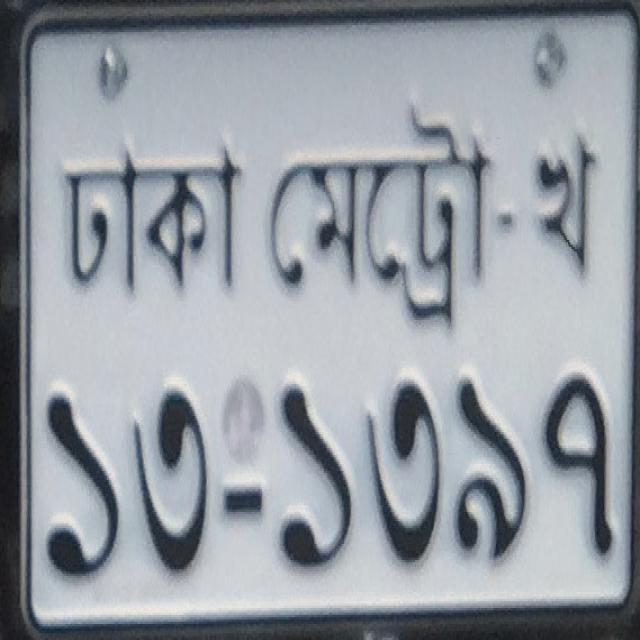numberplate: (6, 1, 636, 634)
